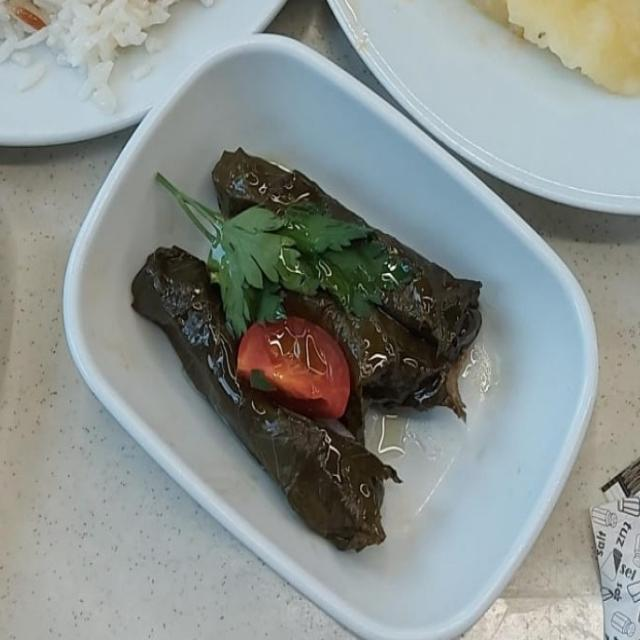yan_yemek: (130, 143, 484, 553)
